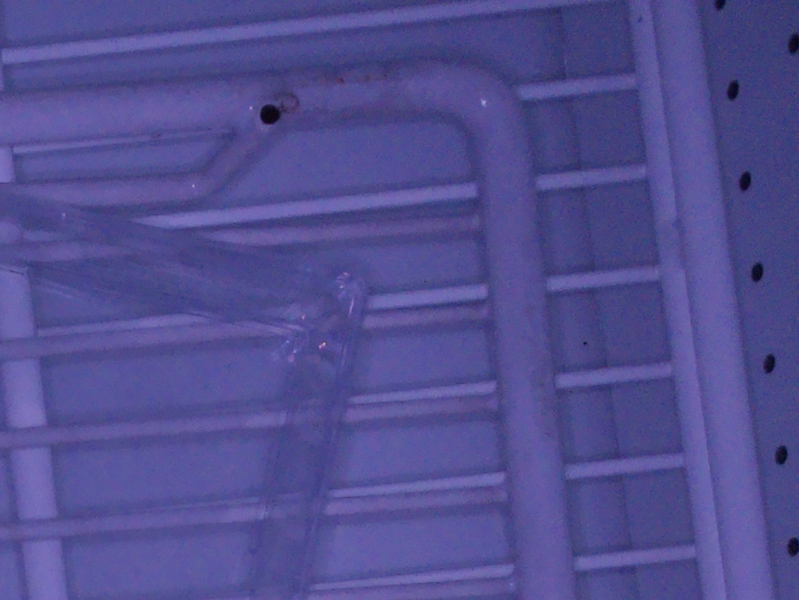plate: (1, 193, 371, 600)
